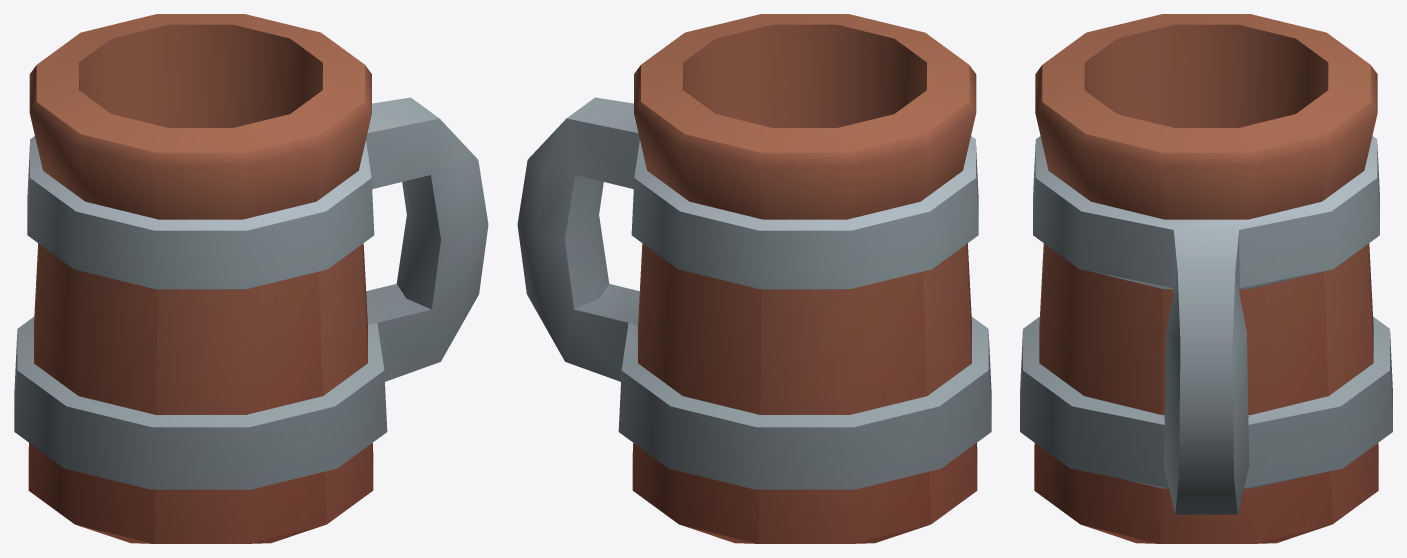
File: mug_empty.glb
3 views of the same model, side by side, from view 1: azimuth 30°, elevation 25°; view 2: azimuth 150°, elevation 25°; view 3: azimuth 270°, elevation 25° (orthographic).
Parts seen in each view (by area): view 1: mug_empty; view 2: mug_empty; view 3: mug_empty.
Boxes of the visible parts, x1=… form: mug_empty: x1=14, y1=14, x2=488, y2=543; mug_empty: x1=517, y1=14, x2=991, y2=543; mug_empty: x1=1020, y1=14, x2=1392, y2=543.
Size of the model in its own units: 0.5342 by 0.4868 by 0.396.
Materials: 1 (1 with a texture image).
